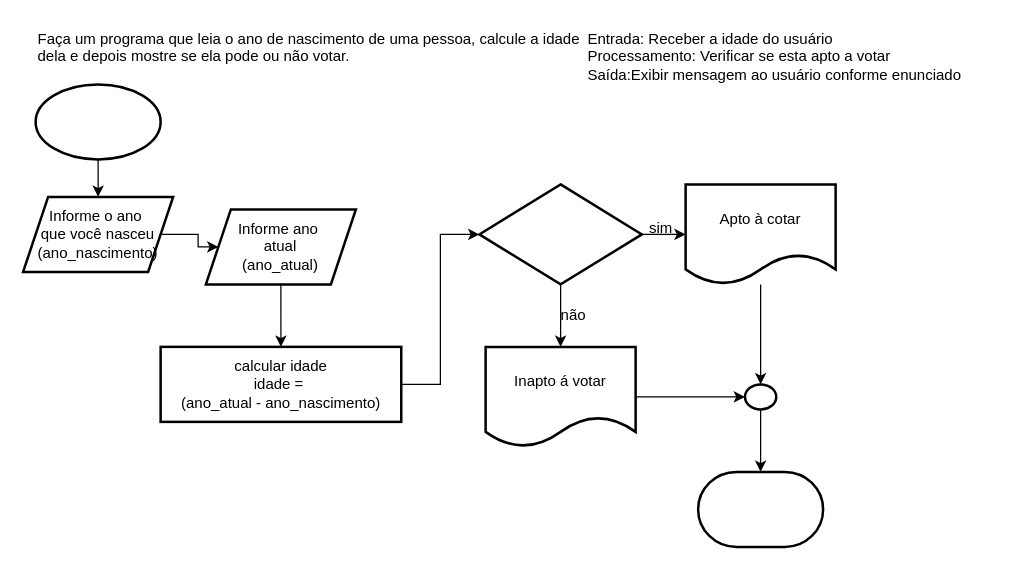
The diagram is 1019 pixels wide and 569 high, and some of its shapes have lost their labels. The box of each missing label's shape, as (x1, y1, x2, y2) in pixels:
Fim: (696, 470, 824, 548)
idade >= 16: (478, 182, 642, 285)
Início: (34, 82, 161, 160)
